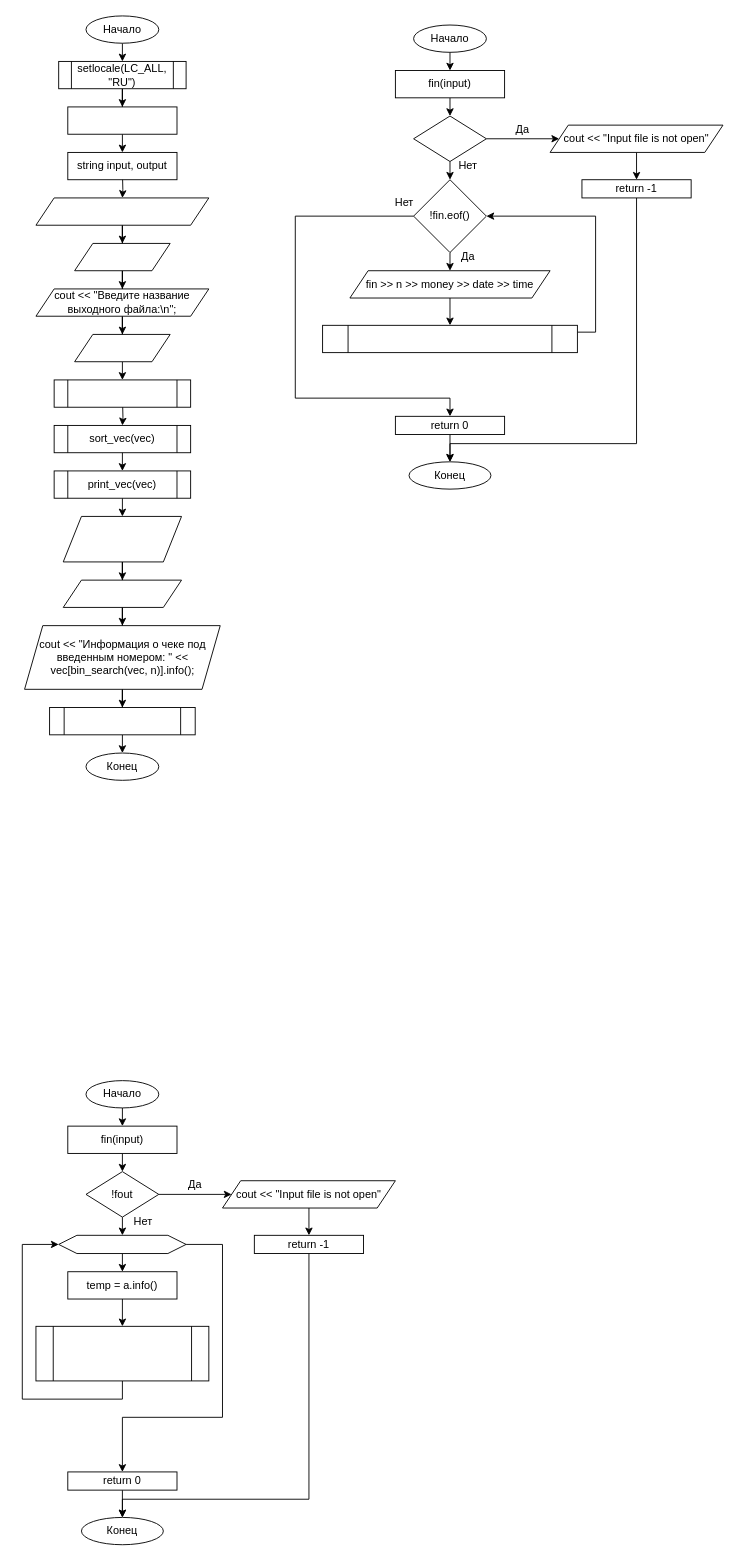
This 739x1561 diagram has some shape labels left out. The box of each missing label's shape, as (x1, y1, x2, y2) in pixels:
!fin: (413, 115, 486, 162)
cin >> input: (74, 243, 170, 271)
cin >> n: (62, 579, 182, 607)
cin >> output: (74, 334, 170, 362)
cout << "Введите название входного файла:\n";: (35, 197, 209, 225)
cout << "Введите номер чека: \n": (62, 516, 182, 562)
for(auto a:vec): (58, 1234, 186, 1254)
fout.write(a.info().c_str(), sizeof(a.info()));: (35, 1325, 209, 1381)
read_vec(vec, input): (53, 379, 191, 407)
vec.push_back(bill(n, money, date, time)): (322, 324, 577, 353)
vector<bill> vec: (67, 106, 177, 134)
write_vec(vec, output): (49, 707, 195, 735)
